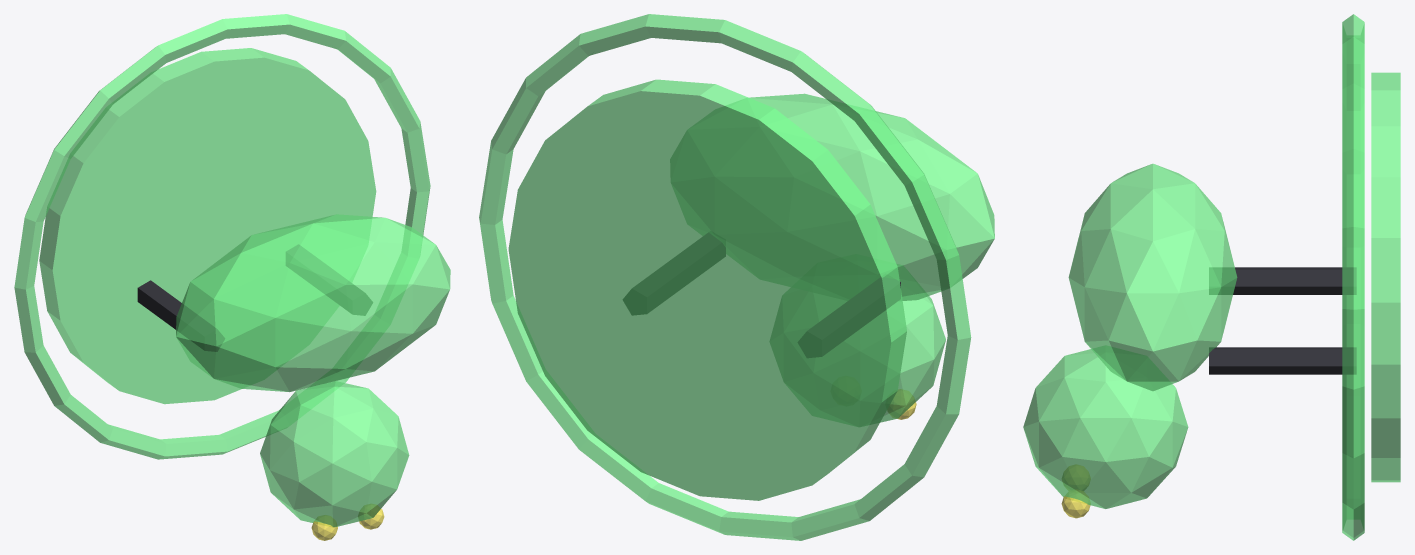
Rendered from 06_lizard_critter.glb.
The picture shows the model from 3 angles, left to right: view 1: azimuth 30°, elevation 25°; view 2: azimuth 150°, elevation 25°; view 3: azimuth 270°, elevation 25°; orthographic projection. The views are drawn at different scales.
Visible parts, largest first — view 1: base_disc, body, base_ring, head, leg_l, leg_r, eye_l, eye_r; view 2: base_disc, body, base_ring, head, leg_l, leg_r, eye_l; view 3: body, head, base_disc, base_ring, leg_r, leg_l, eye_r, eye_l.
Boxes of the visible parts, bbox=[...] form: base_disc: bbox=[39, 48, 376, 404]; body: bbox=[176, 214, 450, 392]; base_ring: bbox=[14, 14, 430, 459]; head: bbox=[260, 381, 409, 527]; leg_l: bbox=[137, 280, 224, 351]; leg_r: bbox=[286, 245, 372, 315]; eye_l: bbox=[311, 515, 337, 540]; eye_r: bbox=[358, 504, 384, 529]; base_disc: bbox=[508, 79, 906, 500]; body: bbox=[670, 93, 994, 300]; base_ring: bbox=[479, 14, 971, 540]; head: bbox=[770, 264, 945, 426]; leg_l: bbox=[798, 277, 900, 357]; leg_r: bbox=[623, 233, 725, 314]; eye_l: bbox=[888, 389, 916, 419]; body: bbox=[1068, 163, 1237, 391]; head: bbox=[1023, 346, 1188, 508]; base_disc: bbox=[1371, 72, 1400, 482]; base_ring: bbox=[1342, 14, 1364, 540]; leg_r: bbox=[1209, 347, 1355, 374]; leg_l: bbox=[1209, 267, 1355, 294]; eye_r: bbox=[1061, 490, 1090, 518]; eye_l: bbox=[1062, 465, 1090, 490].
Bounding box in the file's own units: 0.9 × 0.9 × 0.64.
